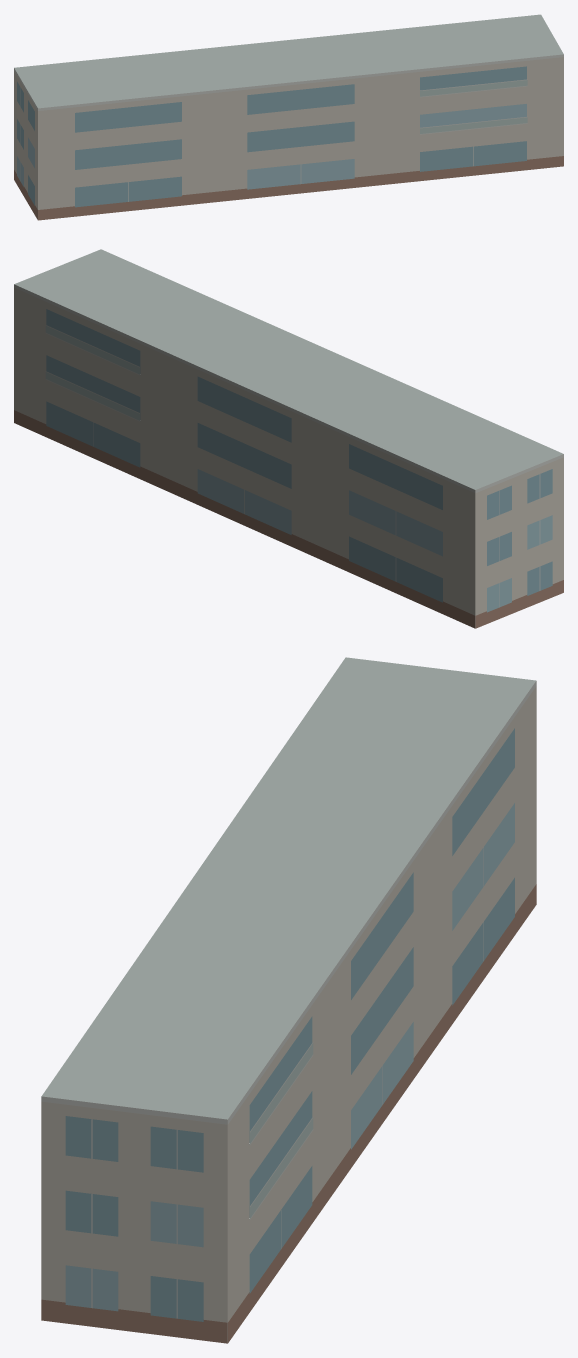
Rendered from survey-upis-32876194.glb.
3 views of the same model, one above another, from view 1: azimuth 30°, elevation 25°; view 2: azimuth 150°, elevation 25°; view 3: azimuth 270°, elevation 25° (orthographic). The views are drawn at different scales.
Parts seen in each view (by area): view 1: survey-upis-32876194.tmp; view 2: survey-upis-32876194.tmp; view 3: survey-upis-32876194.tmp.
Boxes of the visible parts, left/top/right/bottom form: survey-upis-32876194.tmp: left=14, top=14, right=563, bottom=220; survey-upis-32876194.tmp: left=14, top=249, right=563, bottom=628; survey-upis-32876194.tmp: left=41, top=657, right=536, bottom=1343.
Size of the model in its own units: 46.03 by 10.4 by 20.84.
